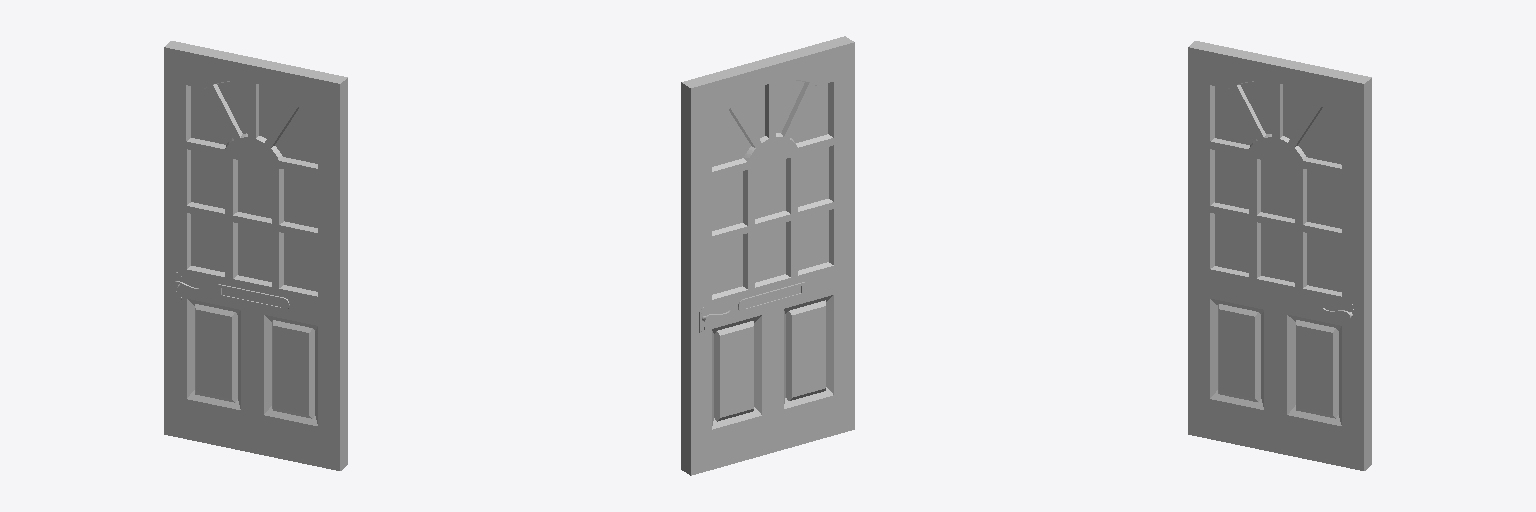
File: door2_000013.obj
The picture shows the model from 3 angles: view 1: azimuth 90°, elevation 25°; view 2: azimuth 150°, elevation 25°; view 3: azimuth 270°, elevation 25°; orthographic projection.
Visible parts, largest first — view 1: Door.000_Door.004; view 2: Door.000_Door.004; view 3: Door.000_Door.004.
Part boxes in pixels (x1,y1,x2,y2): Door.000_Door.004: (164,41,347,470); Door.000_Door.004: (681,36,854,475); Door.000_Door.004: (1188,41,1371,470).
Bounding box in the file's own units: 0.3857 × 1.6 × 0.6918.